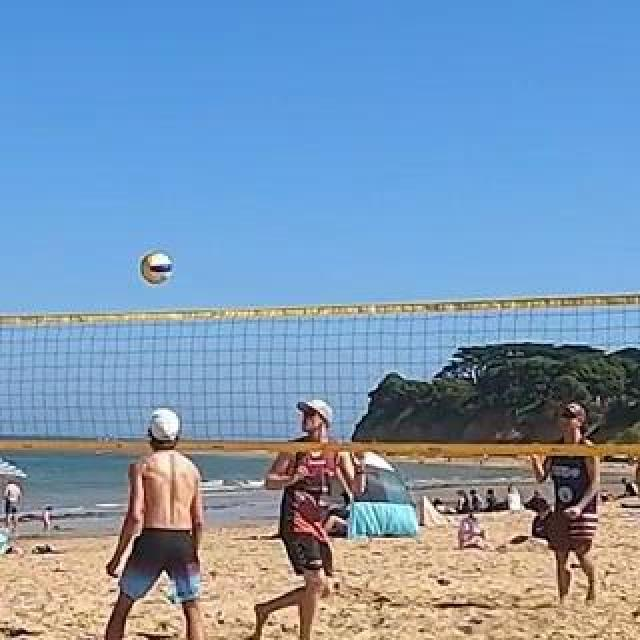volleyball: (141, 253, 173, 285)
